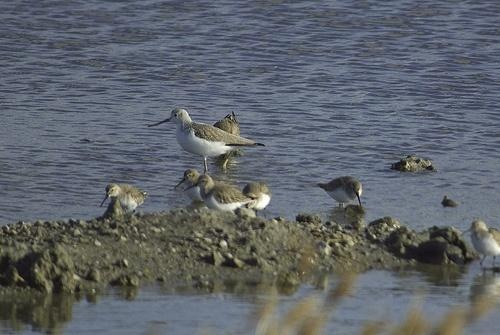bird: (149, 108, 269, 173), (186, 175, 262, 217), (319, 175, 366, 214), (461, 219, 500, 266), (99, 180, 146, 218), (241, 181, 274, 218), (174, 169, 206, 203)
